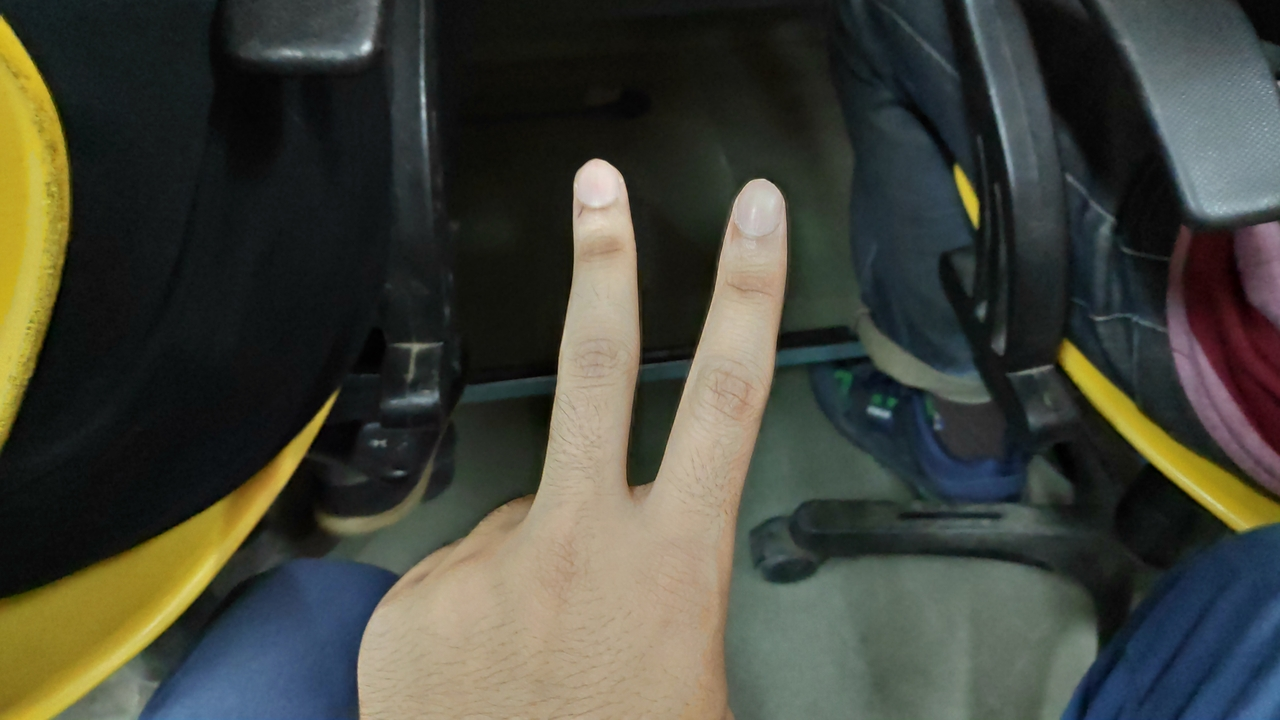fingertip: (720, 174, 796, 244), (566, 156, 634, 222)
